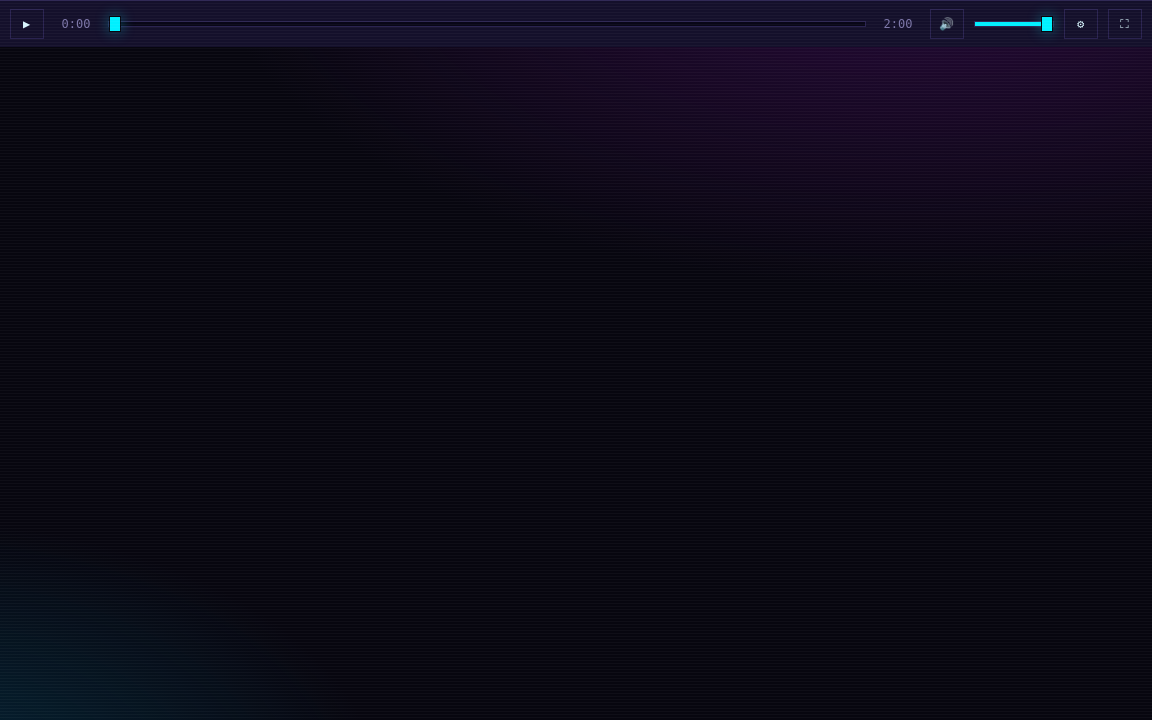
VideoControls › mutes and unmutes the video
The width and height of the screenshot is (1152, 720).
Click the button named "Mute": (947, 24) [930,9,964,39]
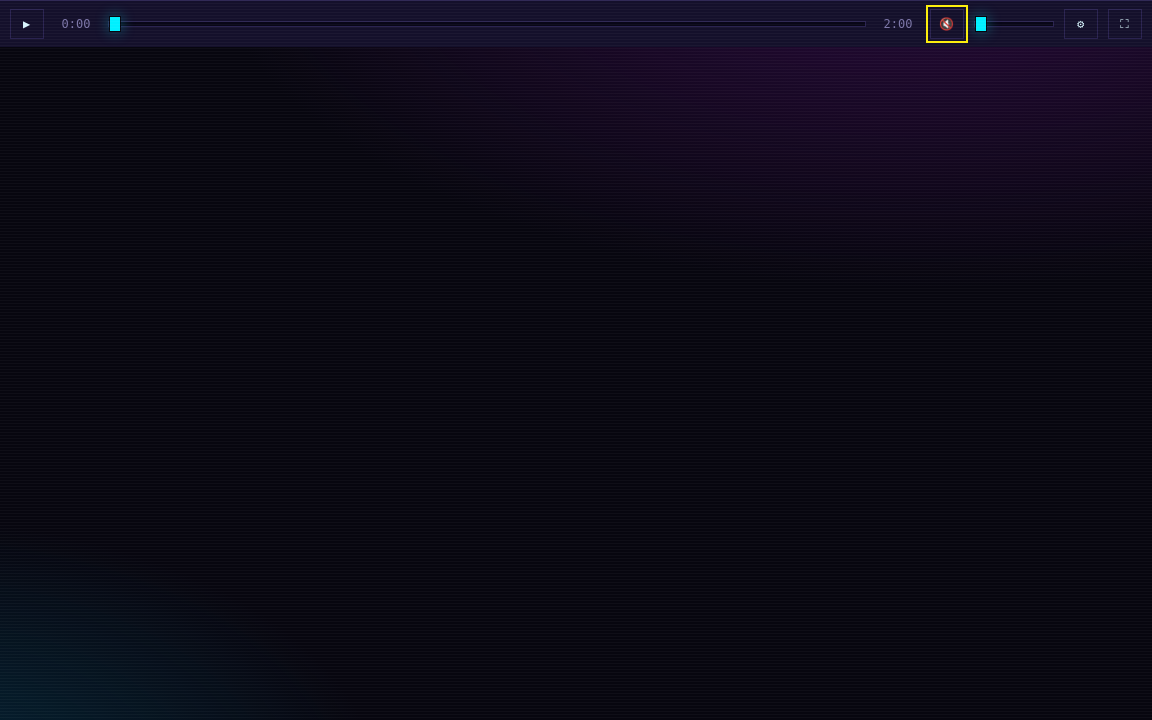
Expected: the button named "Unmute" reads "🔇"
Expected: the slider named "Volume" holds "0", [974,21,1054,27]
Click the button named "Unmute": (947, 24) [930,9,964,39]
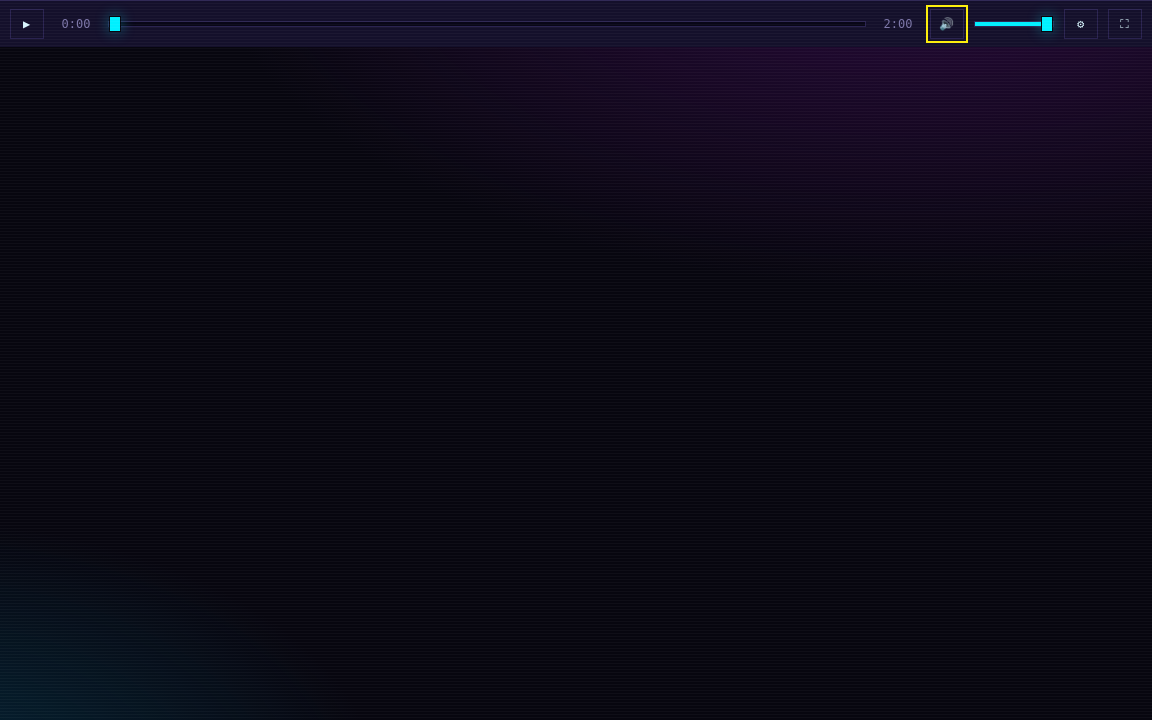
Expected: the button named "Mute" reads "🔊", [930,9,964,39]
Expected: the slider named "Volume" holds "1", [974,21,1054,27]
